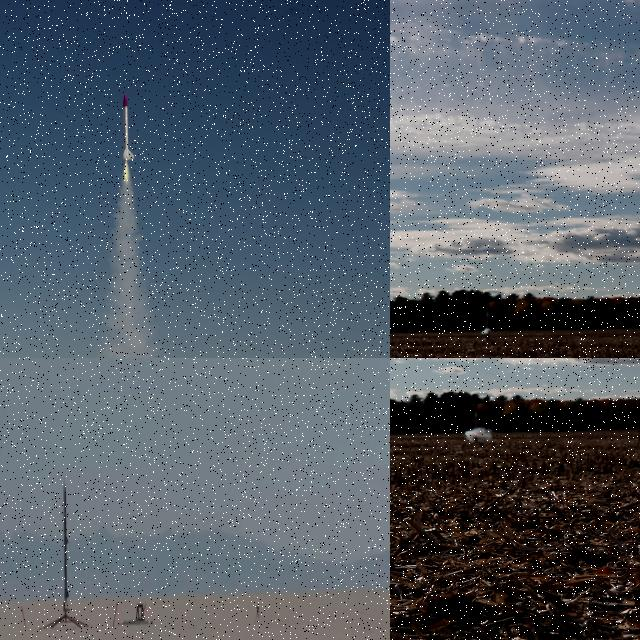Rocket: (118, 92, 135, 162), (63, 483, 70, 603), (473, 411, 478, 435), (486, 311, 489, 330)
